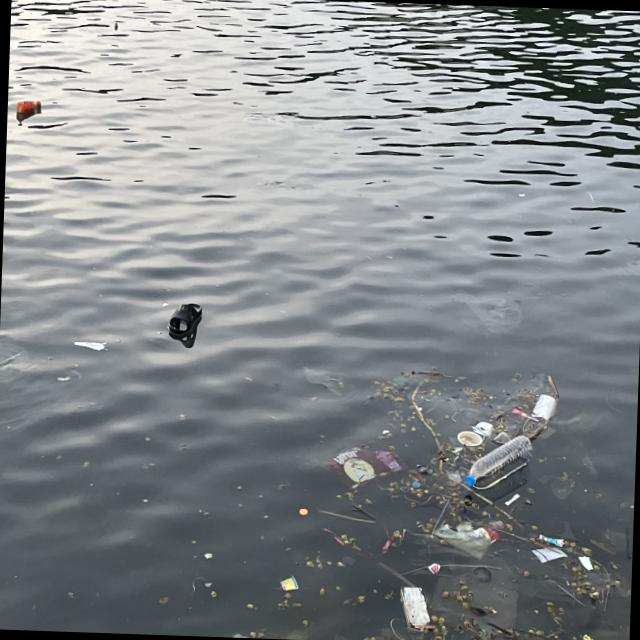foam: (577, 554, 592, 572)
plastic: (465, 432, 533, 492), (16, 97, 42, 116), (456, 430, 483, 448)
plastic bottle: (432, 575, 518, 635), (322, 442, 407, 495), (450, 289, 523, 335), (432, 521, 502, 560), (400, 586, 430, 635), (538, 474, 574, 501), (530, 546, 568, 565), (530, 393, 556, 420), (510, 406, 540, 423), (73, 341, 105, 352), (539, 532, 564, 546), (472, 421, 492, 435), (280, 576, 298, 590), (505, 492, 520, 507), (447, 474, 461, 484)
unknow: (318, 524, 406, 559), (166, 302, 202, 334), (392, 375, 417, 388)
